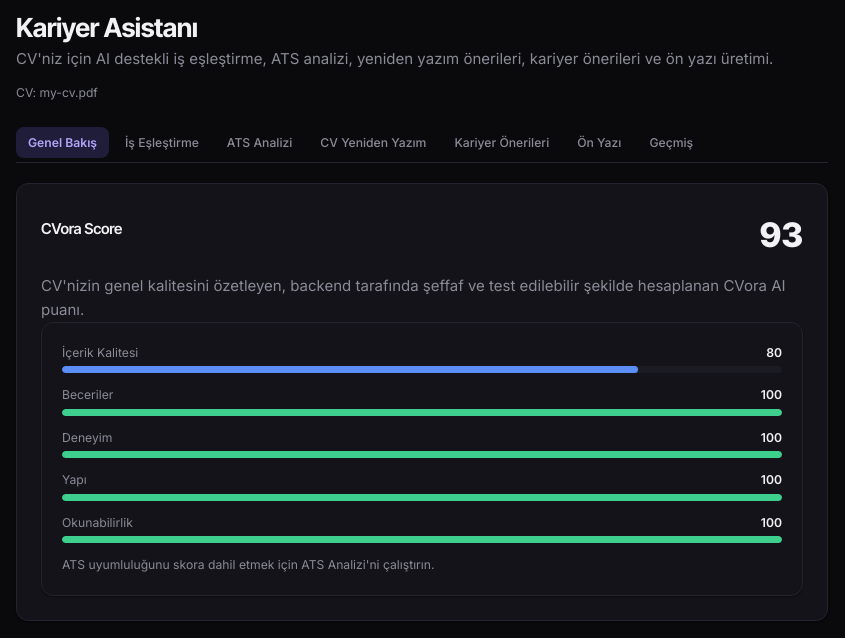
Scenario: CareerAssistantPage › shows an empty-state message on the History tab when this CV has no Career Assistant results yet
Expected: the text "CV: my-cv.pdf" is shown, 16,85 -> 98,100
Click the tab "Geçmiş" at (671, 142), box 637,127 -> 705,158
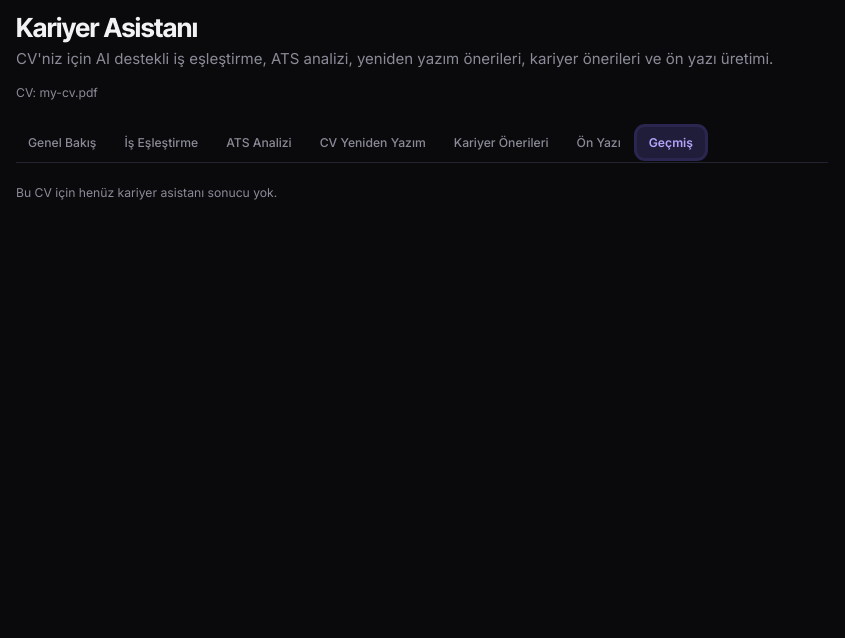
Expected: the text "Bu CV için henüz kariyer asistanı sonucu yok." is shown, 16,185 -> 277,200
